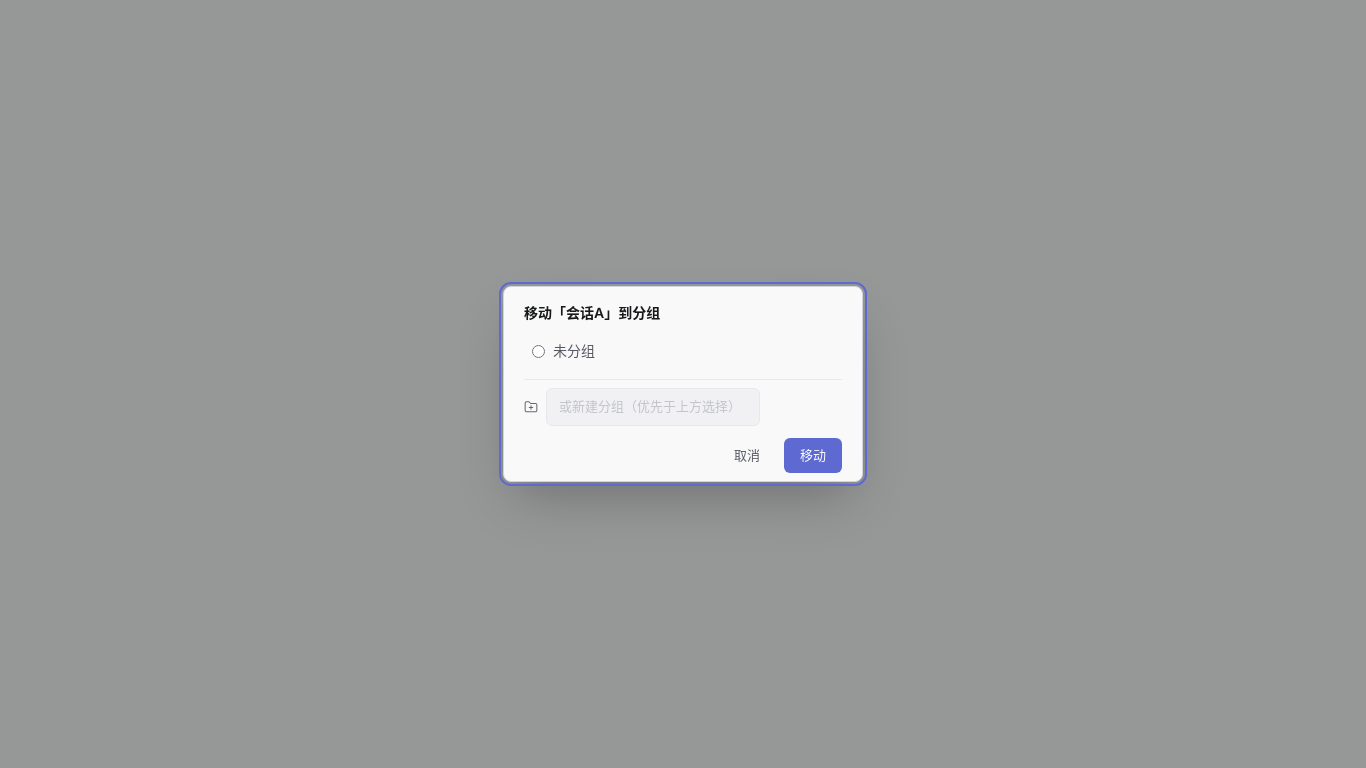
Test: MoveToGroupDialog — 错误路径 › create 失败 → 错误文案可见、moveToGroup 不调、弹窗不关
Type "新组" into the field at [653, 407], box [546,388,760,426]
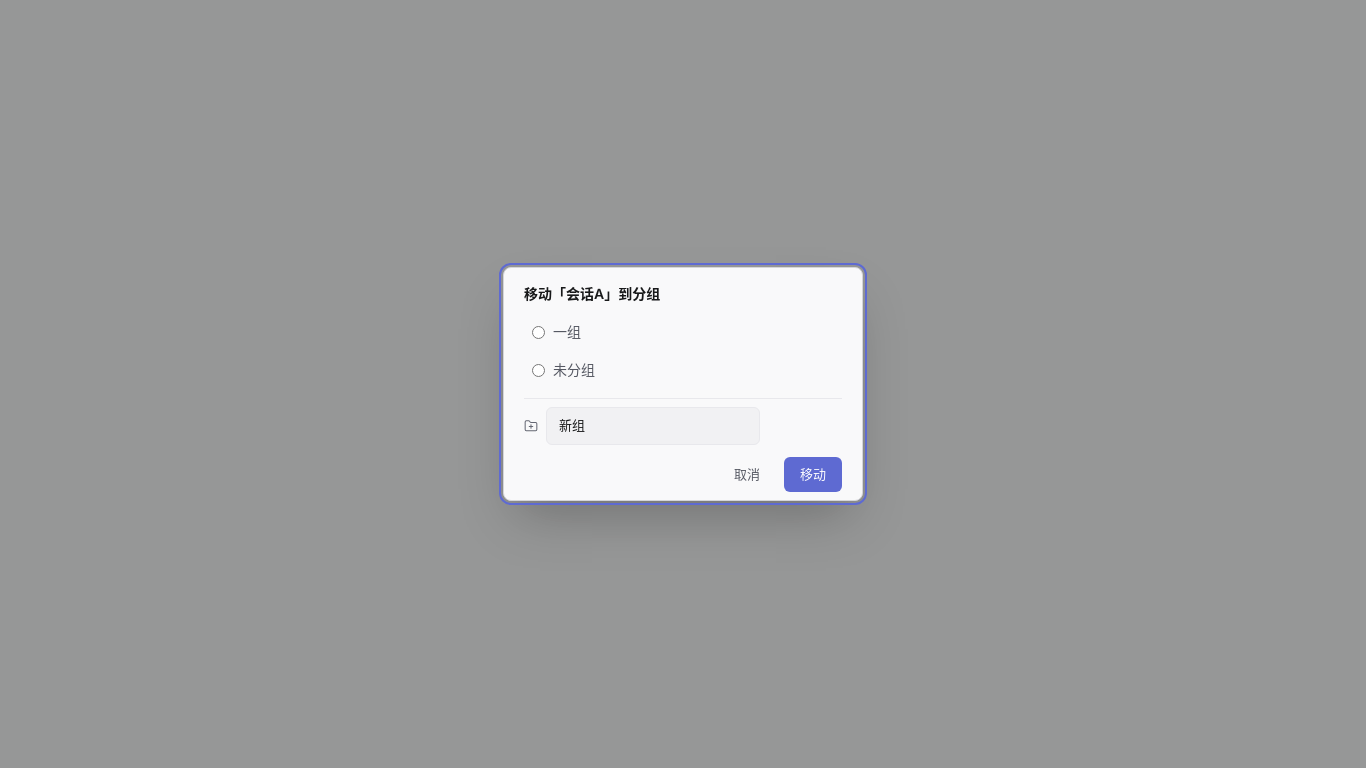
Click the button "移动" at [813, 474], box [784,456,842,492]
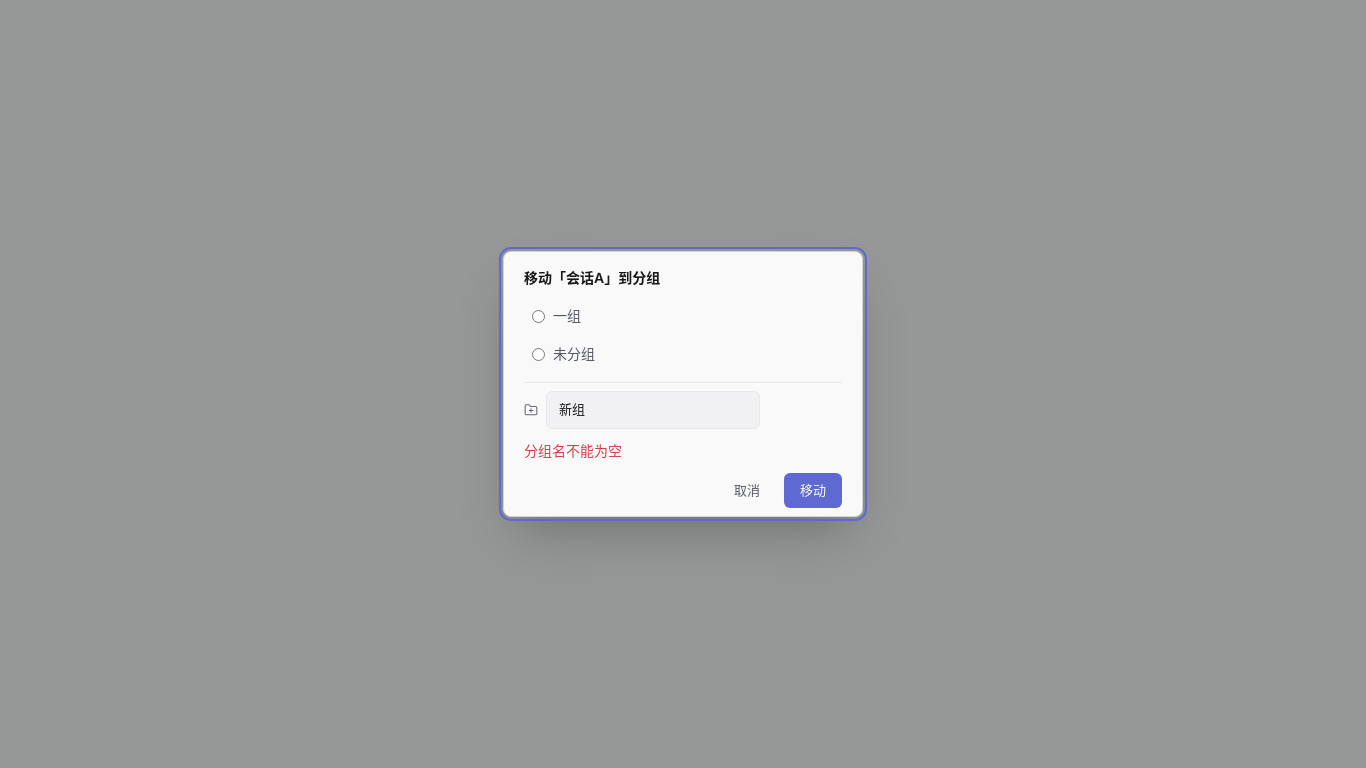
Expected: the dialog is shown, [503,251,863,517]
Now the text "分组名不能为空" is shown, box [524,442,622,458]
